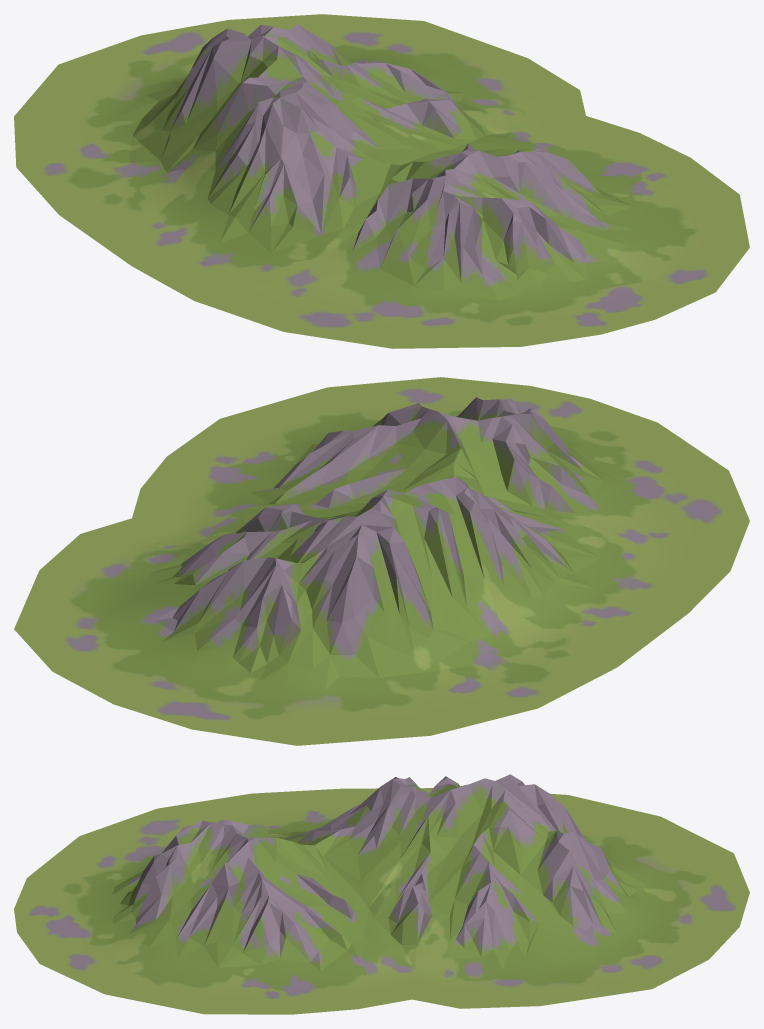
The model's file is build_mountain_B 1.FBX.
3 renders of one model, top to bottom at view 1: azimuth 30°, elevation 25°; view 2: azimuth 150°, elevation 25°; view 3: azimuth 270°, elevation 25°, orthographic. The views are drawn at different scales.
Visible parts, largest first — view 1: mountain_D_grass_LOD0_0, mountain_D_grass_edge_LOD0_0; view 2: mountain_D_grass_LOD0_0, mountain_D_grass_edge_LOD0_0; view 3: mountain_D_grass_LOD0_0, mountain_D_grass_edge_LOD0_0.
Part boxes in pixels (bbox=[...]): mountain_D_grass_LOD0_0: bbox=[63, 24, 700, 327]; mountain_D_grass_edge_LOD0_0: bbox=[14, 14, 749, 348]; mountain_D_grass_LOD0_0: bbox=[57, 397, 698, 725]; mountain_D_grass_edge_LOD0_0: bbox=[14, 377, 749, 745]; mountain_D_grass_LOD0_0: bbox=[57, 774, 708, 996]; mountain_D_grass_edge_LOD0_0: bbox=[14, 788, 749, 1014].
Bounding box in the file's own units: 18.87 × 3.95 × 25.88.
